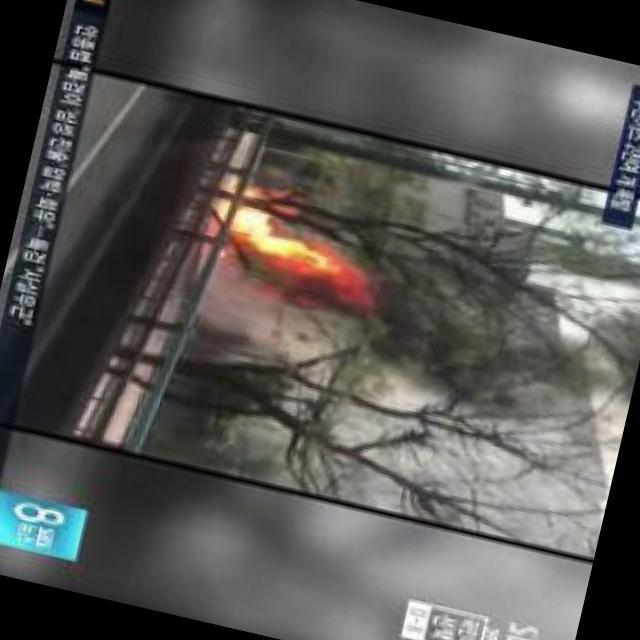Fire: (247, 224, 372, 323), (202, 186, 278, 259)
